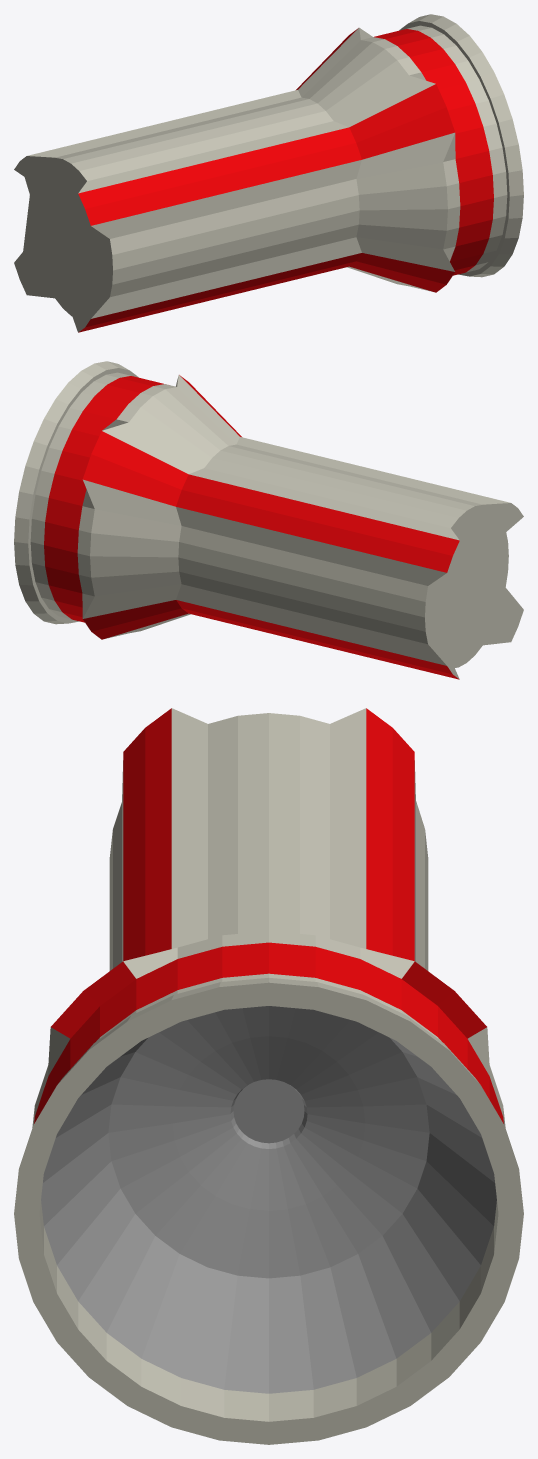
Rendered from Lamp.fbx.
3 views of the same model, one above another, from view 1: azimuth 30°, elevation 25°; view 2: azimuth 150°, elevation 25°; view 3: azimuth 270°, elevation 25° (orthographic). The views are drawn at different scales.
Visible parts, largest first — view 1: Cylinder; view 2: Cylinder; view 3: Cylinder.
Boxes of the visible parts, x1,y1,x2,y2 form: Cylinder: (14, 14, 523, 332); Cylinder: (14, 361, 523, 679); Cylinder: (14, 708, 523, 1444).
Bounding box in the file's own units: 1200 × 692 × 692.
